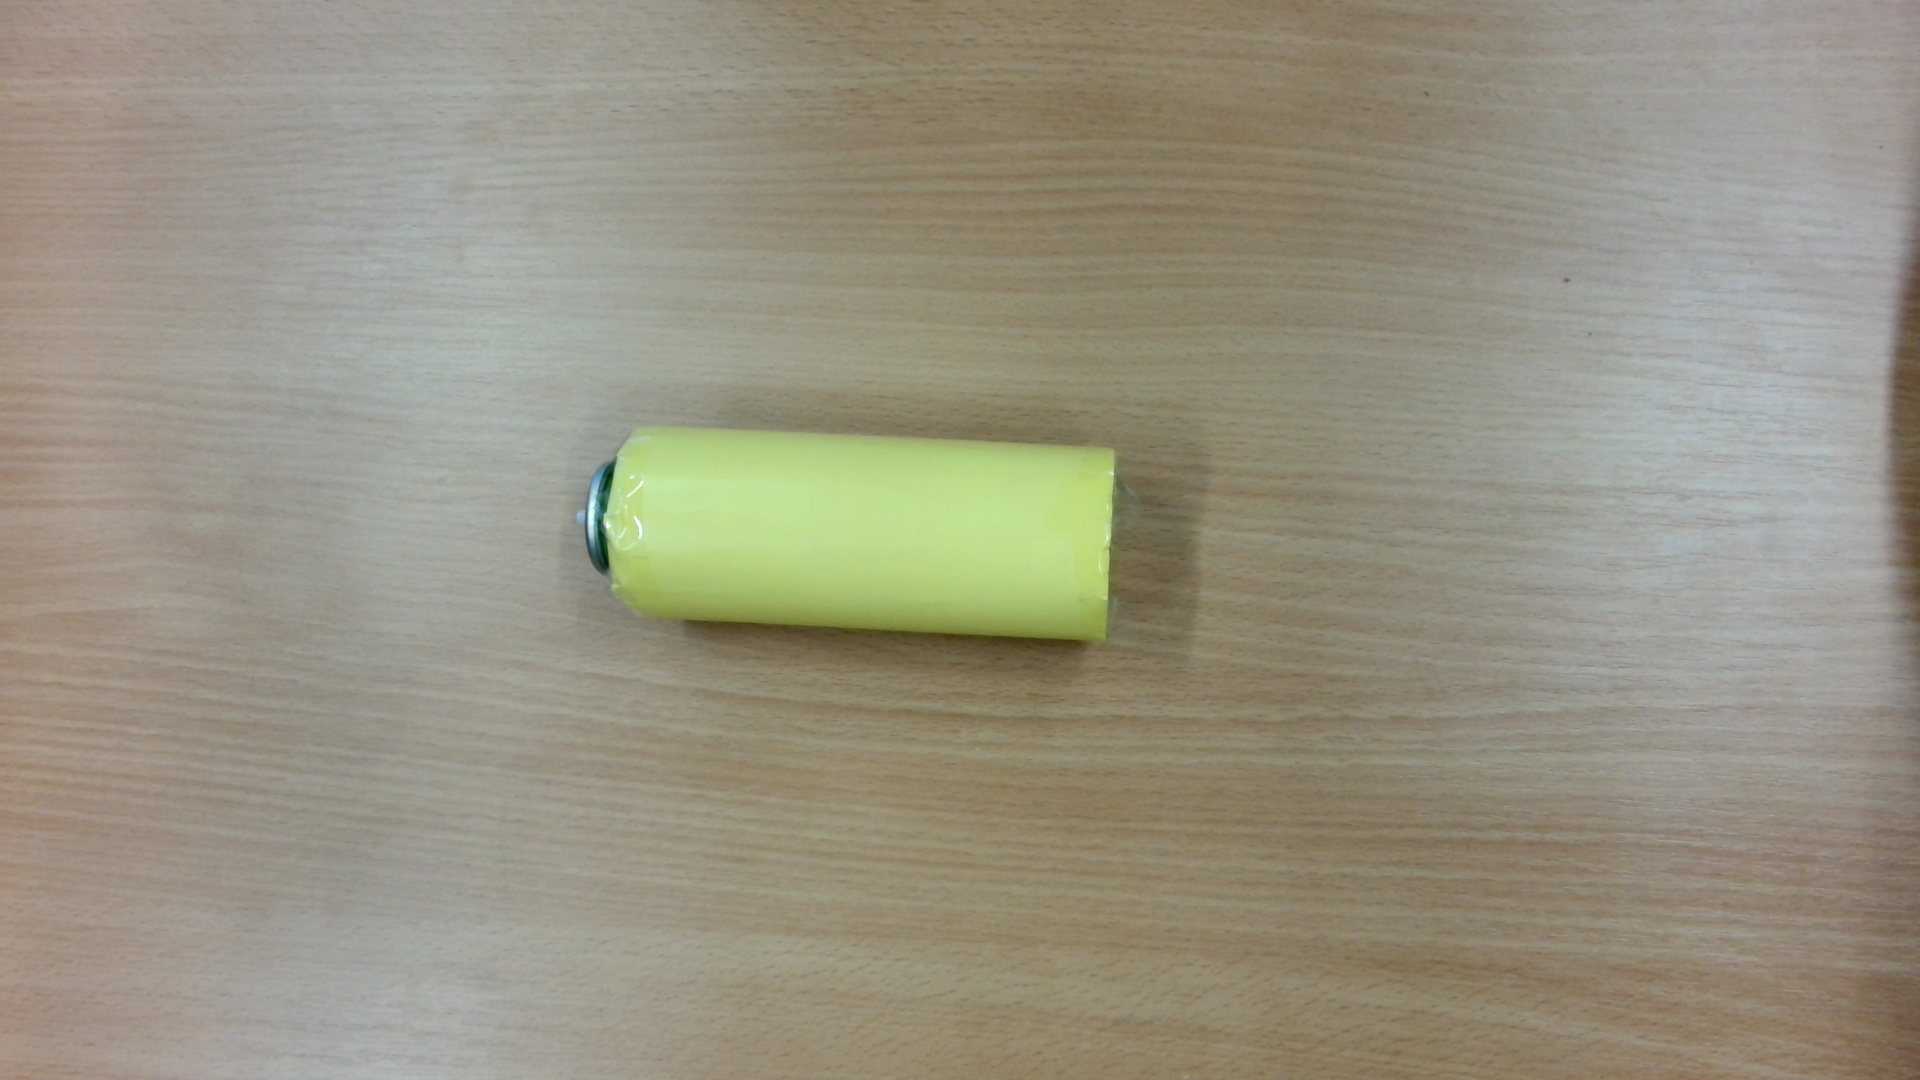Cylinder: (553, 409, 1153, 666)
